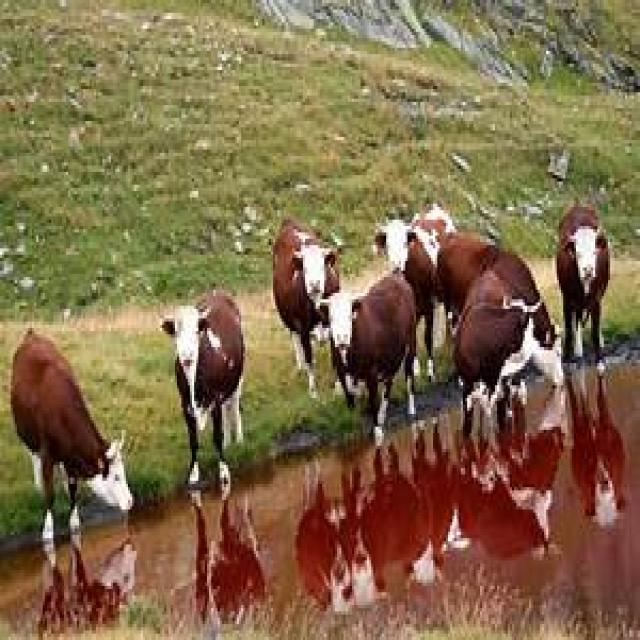animal: (10, 334, 132, 539), (320, 275, 419, 443), (164, 289, 247, 484), (434, 231, 564, 345), (274, 214, 342, 377), (377, 218, 441, 376), (455, 301, 540, 417), (554, 203, 610, 362)
